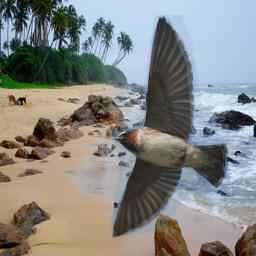Swallow: (111, 15, 230, 239)
